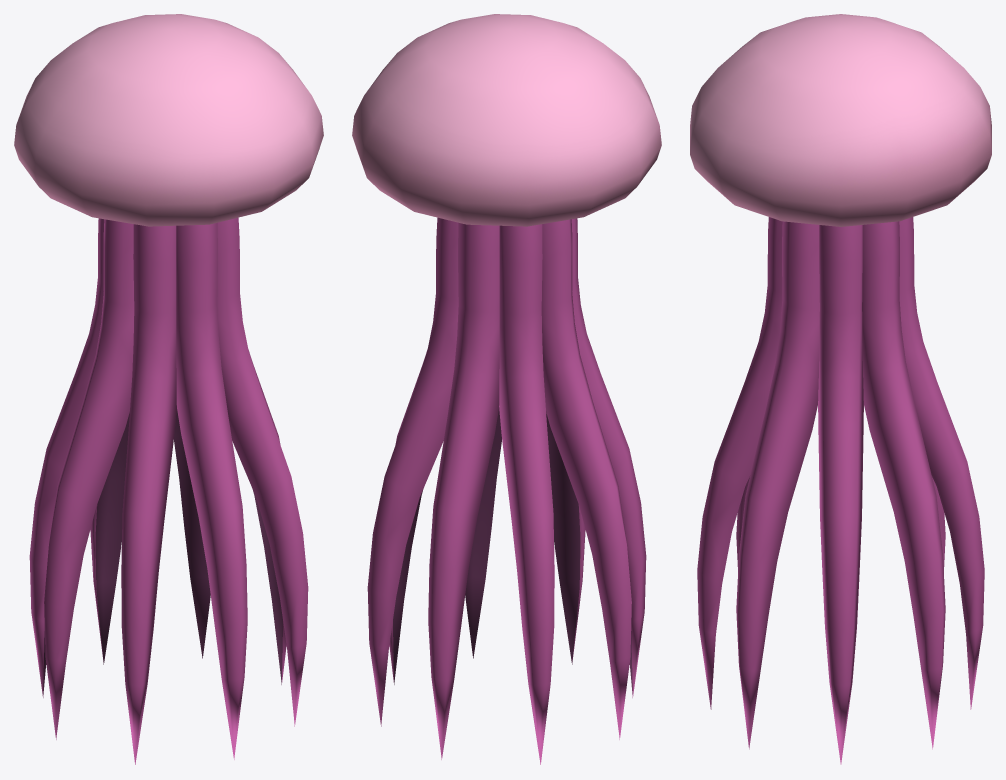
Rendered from jellyfish.fbx.
3 renders of one model, left to right at view 1: azimuth 30°, elevation 25°; view 2: azimuth 150°, elevation 25°; view 3: azimuth 270°, elevation 25°, orthographic.
Parts seen in each view (by area): view 1: head, t1, t8, t7, t2, t6, t5, t4, t3; view 2: head, t5, t6, t7, t4, t8, t1, t2, t3; view 3: head, t3, t2, t4, t1, t5.
Boxes of the visible parts, x1,y1,x2,y2 form: head: [14, 14, 323, 226]; t1: [176, 222, 247, 759]; t8: [121, 224, 176, 764]; t7: [44, 219, 134, 739]; t2: [217, 217, 308, 726]; t6: [29, 218, 104, 697]; t5: [90, 412, 129, 664]; t4: [174, 407, 210, 658]; t3: [248, 349, 286, 684]; head: [352, 14, 661, 226]; t5: [428, 222, 499, 759]; t6: [499, 224, 554, 764]; t7: [541, 219, 631, 739]; t4: [367, 217, 458, 726]; t8: [571, 218, 646, 697]; t1: [546, 412, 585, 664]; t2: [465, 407, 501, 658]; t3: [389, 349, 427, 684]; head: [690, 14, 991, 226]; t3: [818, 225, 863, 764]; t2: [736, 221, 819, 749]; t4: [862, 221, 945, 749]; t1: [697, 217, 782, 709]; t5: [899, 217, 984, 709].
Size of the model in its own units: 2.18 by 5.29 by 2.13.
